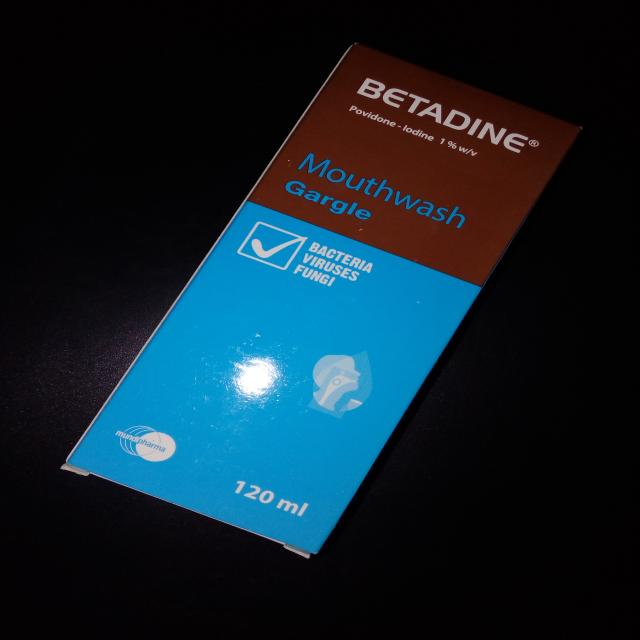Medicine: (59, 38, 585, 555)
